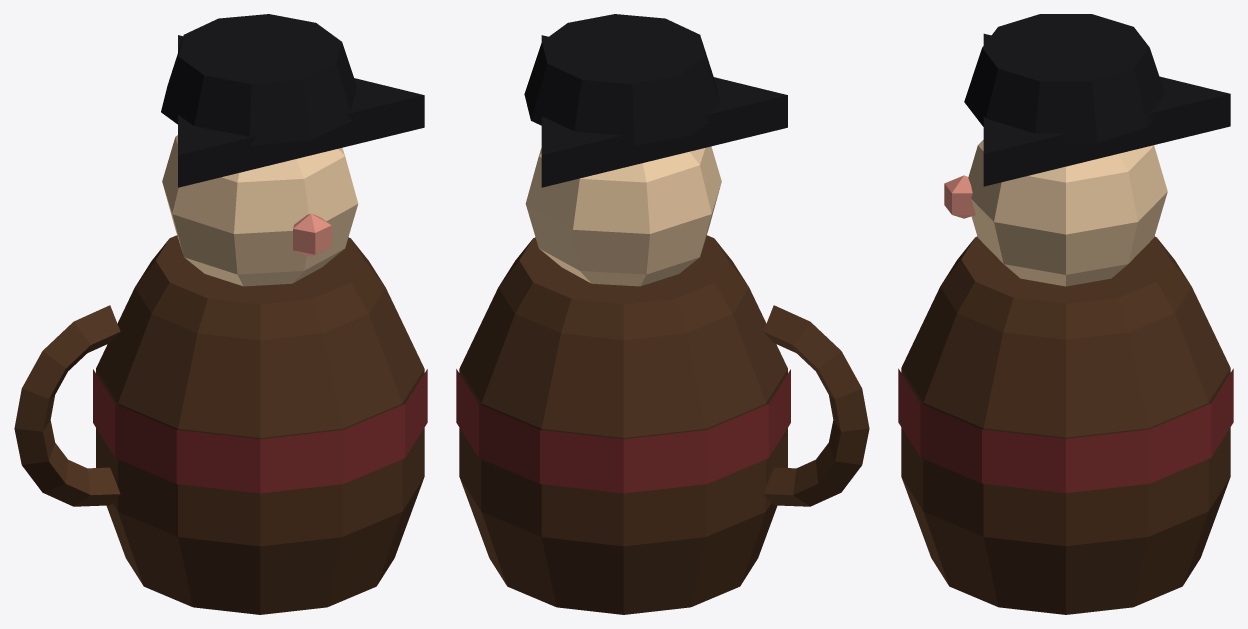
File: toby-jug.glb
The picture shows the model from 3 angles, left to right: view 1: azimuth 30°, elevation 25°; view 2: azimuth 150°, elevation 25°; view 3: azimuth 270°, elevation 25°; orthographic projection.
Parts seen in each view (by area): view 1: toby_jug; view 2: toby_jug; view 3: toby_jug.
Part boxes in pixels (x1,y1,x2,y2): toby_jug: (14, 14, 427, 614); toby_jug: (456, 14, 869, 614); toby_jug: (898, 14, 1233, 614).
Size of the model in its own units: 0.151 by 0.188 by 0.112.
